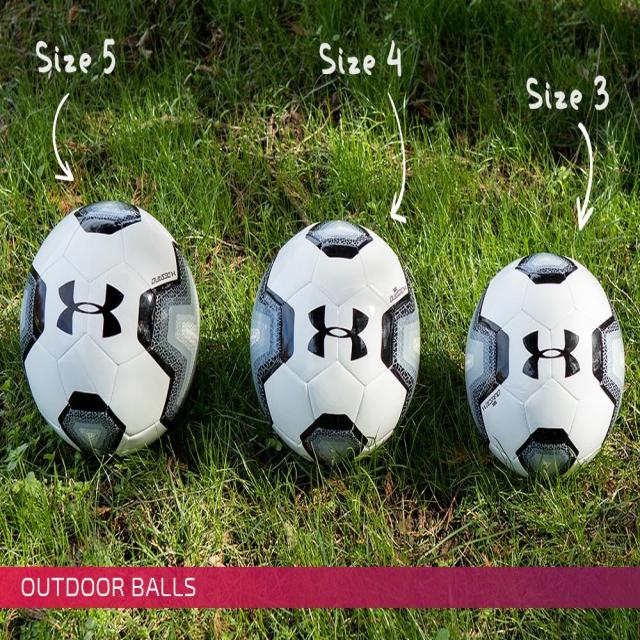soccer ball: (22, 200, 200, 461), (252, 222, 420, 466), (465, 253, 624, 482)
